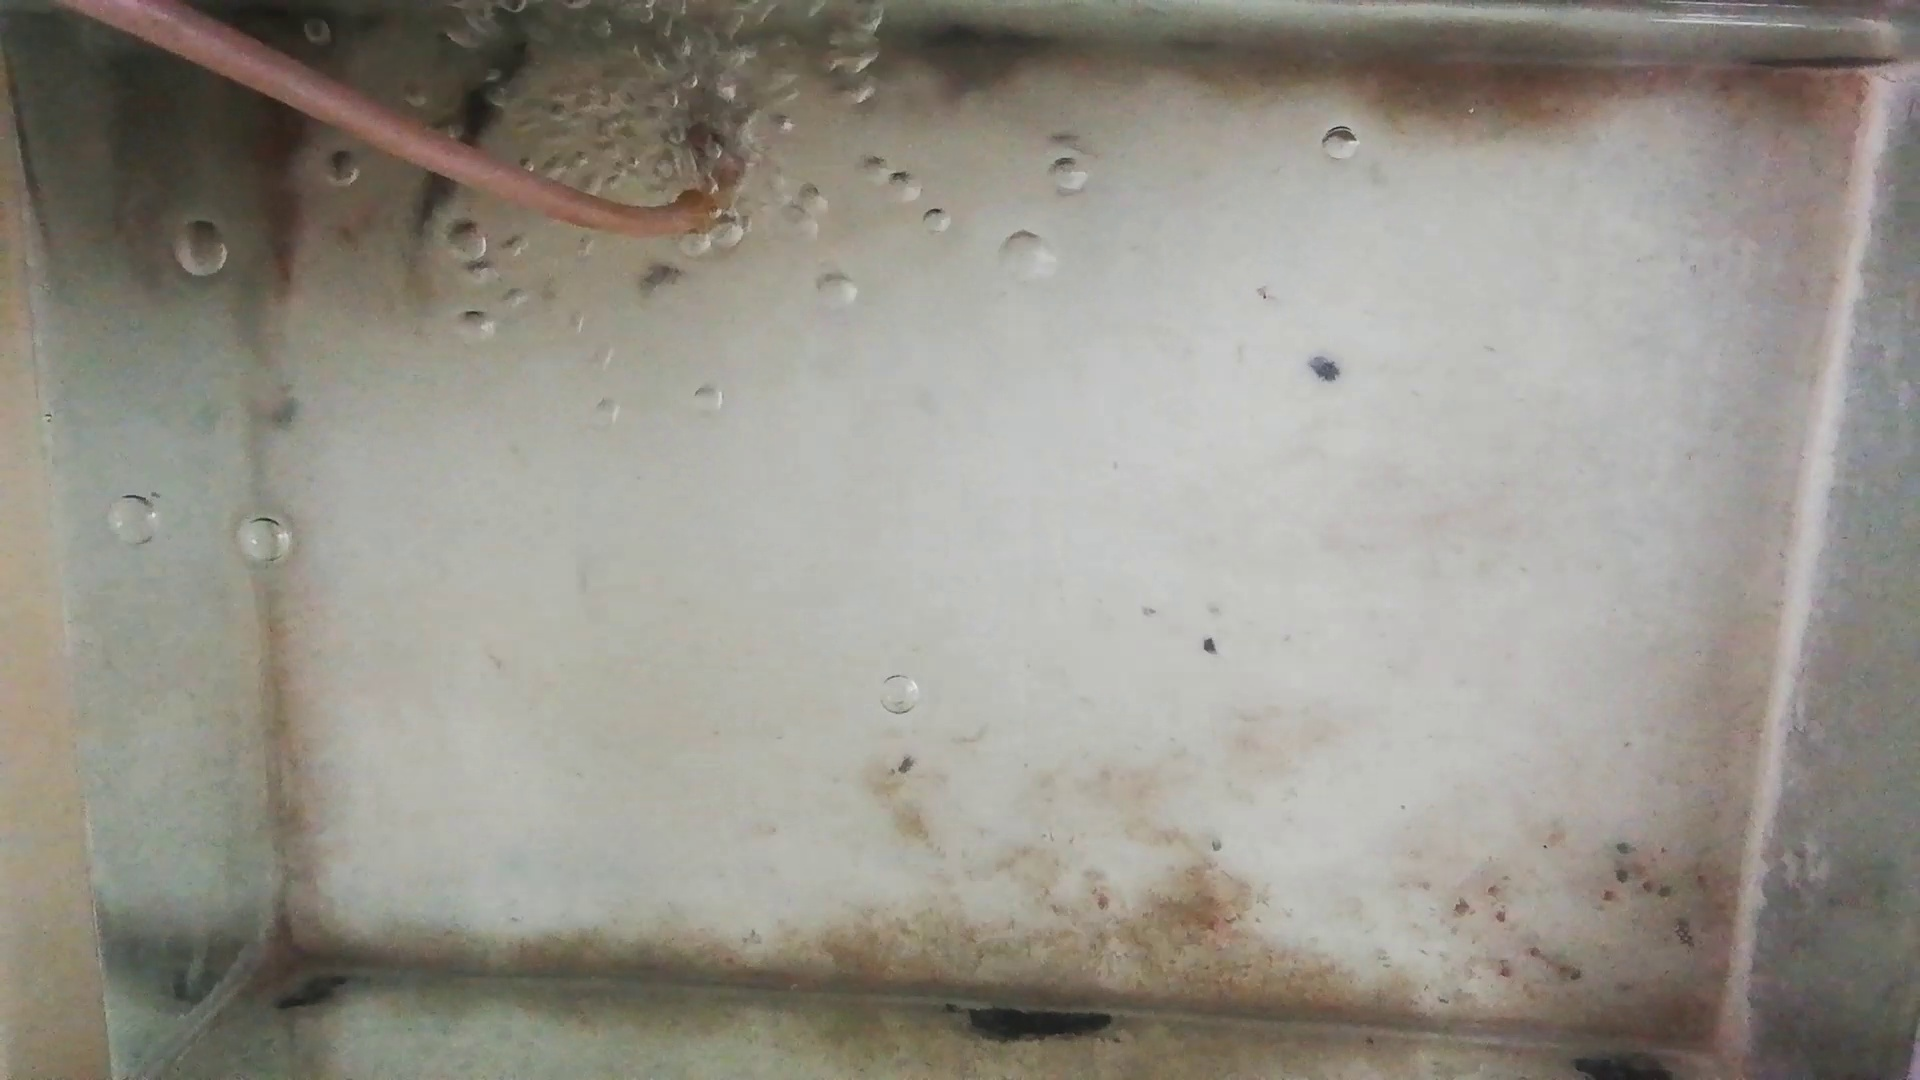fish: (410, 40, 527, 243), (255, 84, 305, 297)
